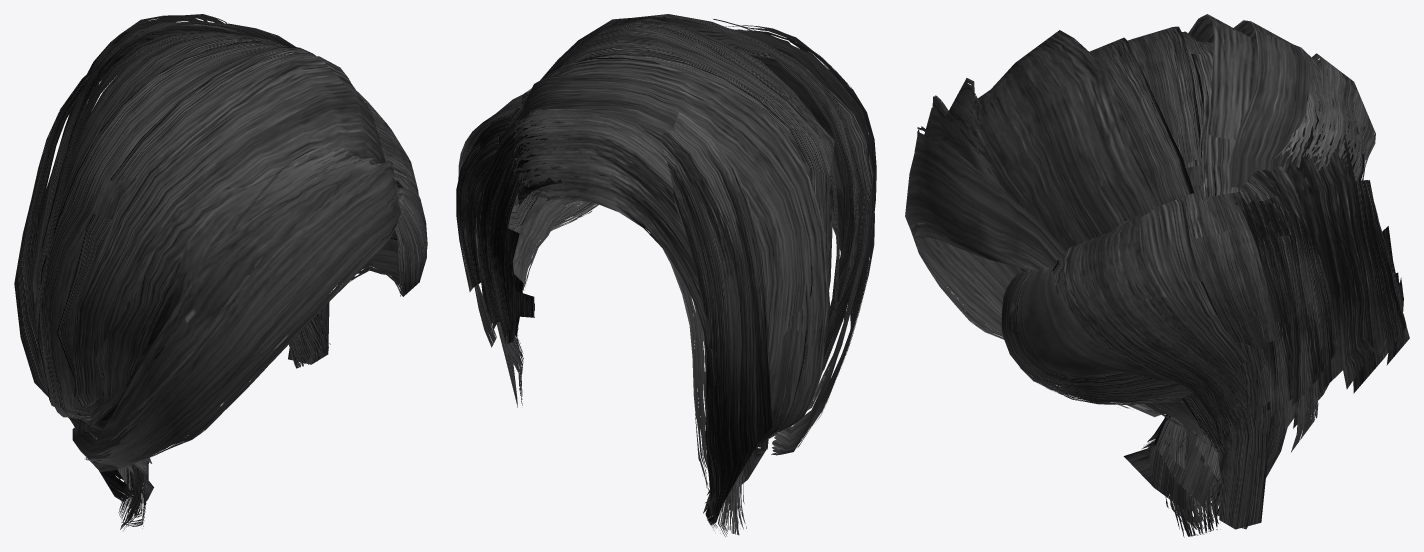
The model's file is Yash_Hair_Mesh.fbx.
3 views of the same model, side by side, from view 1: azimuth 30°, elevation 25°; view 2: azimuth 150°, elevation 25°; view 3: azimuth 270°, elevation 25° (orthographic). The views are drawn at different scales.
Visible parts, largest first — view 1: Hair.001; view 2: Hair.001; view 3: Hair.001.
Part boxes in pixels (x1,y1,x2,y2): Hair.001: [14, 14, 427, 530]; Hair.001: [456, 14, 876, 536]; Hair.001: [905, 14, 1409, 537].
Bounding box in the file's own units: 19.34 × 25.1 × 21.3.
